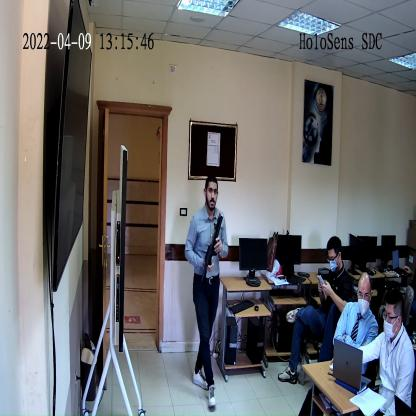handgun: (199, 216, 224, 287)
